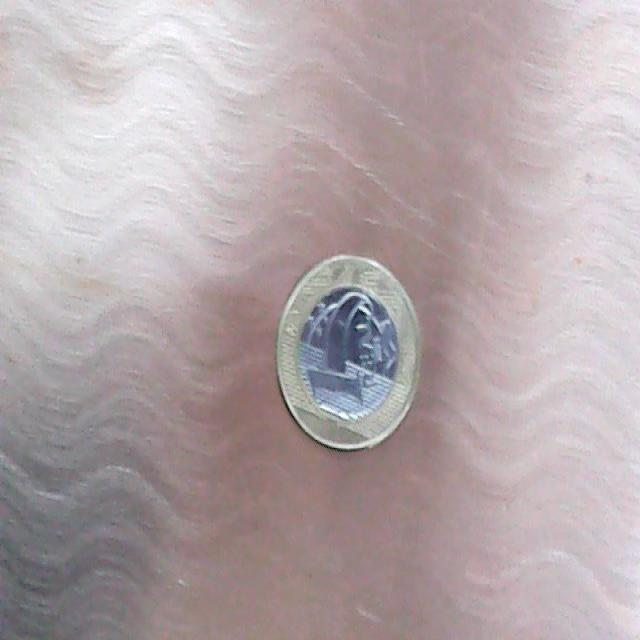1 real: (264, 236, 422, 462)
